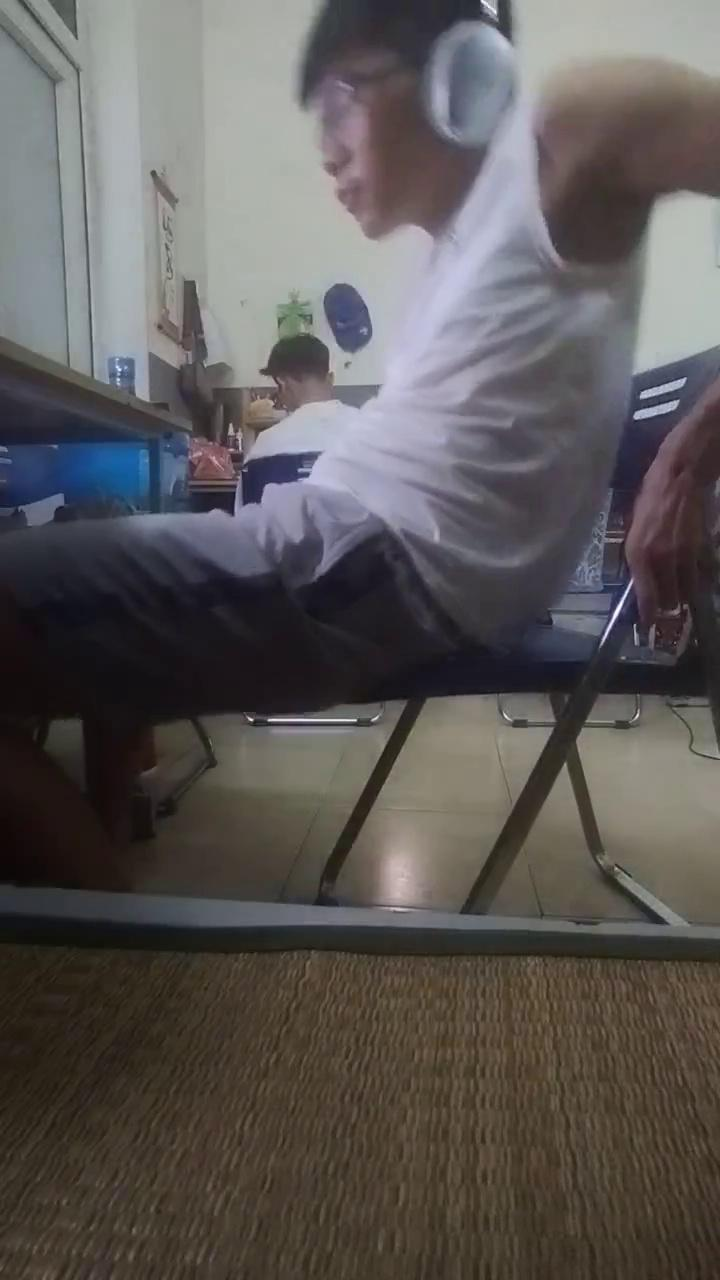BadPosture: (0, 0, 719, 888)
